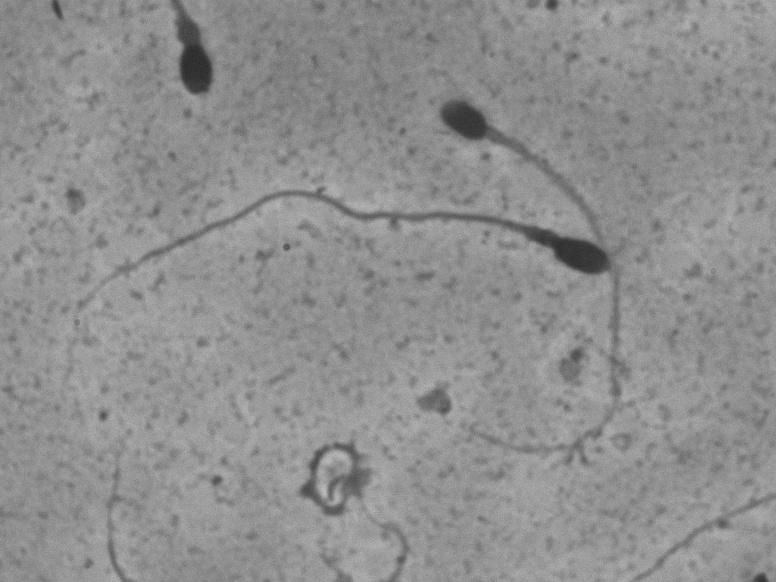Abnormal: (44, 181, 617, 396), (381, 55, 616, 188), (127, 10, 259, 106)
